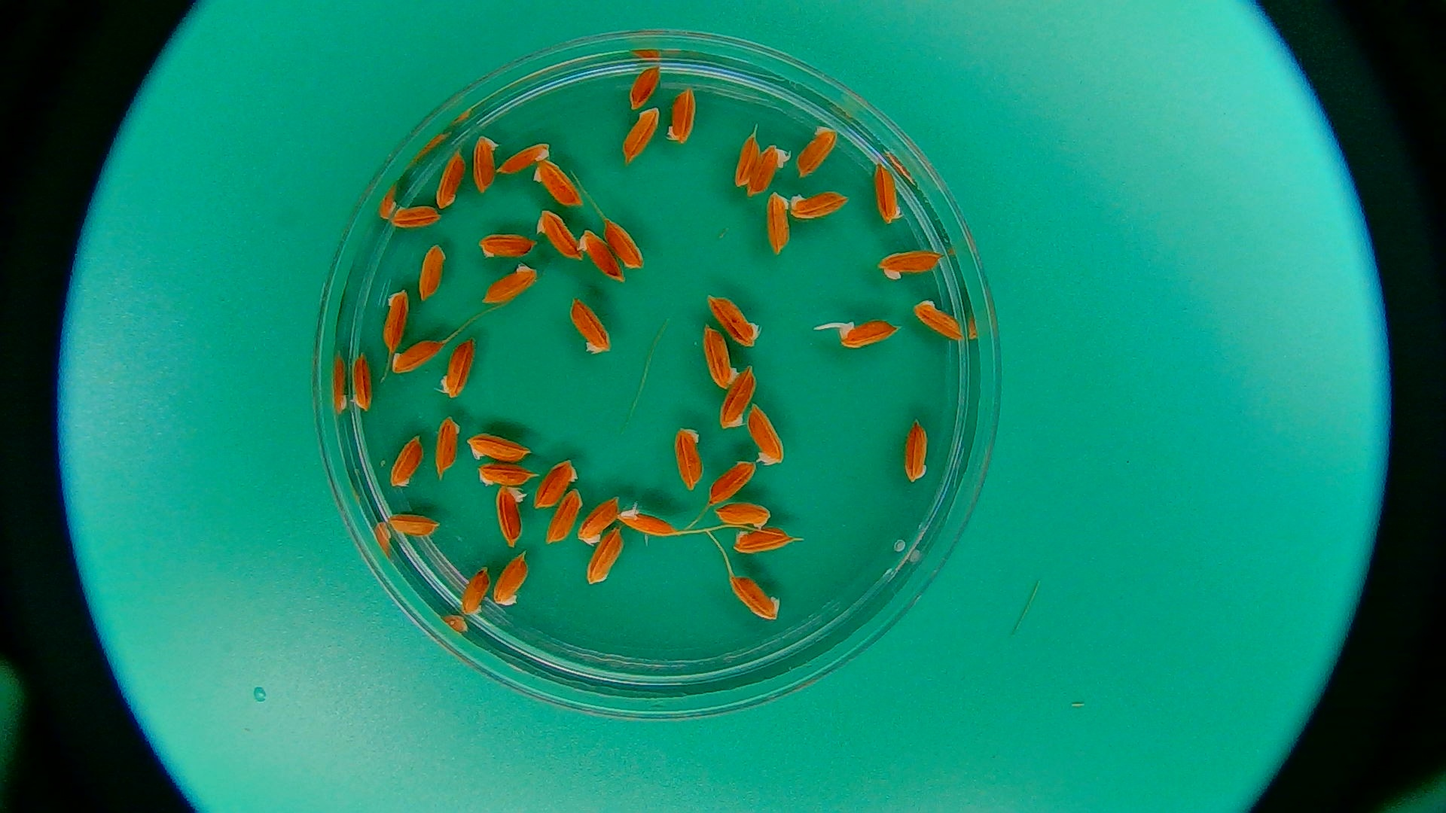no: (567, 294, 615, 356), (575, 227, 626, 285), (711, 293, 761, 352), (529, 157, 585, 207), (745, 400, 786, 468), (533, 206, 583, 261), (481, 261, 541, 306), (874, 244, 944, 282), (703, 321, 741, 391), (718, 361, 756, 431), (602, 214, 647, 272), (728, 575, 782, 622), (438, 338, 477, 402), (706, 459, 758, 507), (585, 526, 625, 588), (795, 123, 838, 180), (913, 296, 966, 341), (545, 486, 584, 547), (532, 458, 578, 509), (620, 105, 660, 163), (577, 497, 620, 550), (467, 431, 534, 465), (872, 161, 906, 227), (675, 421, 706, 493), (661, 86, 697, 147), (389, 432, 426, 490), (709, 499, 773, 531), (433, 147, 466, 209), (730, 525, 792, 558), (898, 416, 928, 484), (432, 413, 462, 480), (493, 551, 529, 606), (383, 508, 442, 541), (380, 289, 410, 353), (763, 190, 792, 255), (788, 191, 850, 221), (493, 141, 551, 173), (389, 340, 443, 374), (459, 567, 492, 620), (475, 233, 537, 261), (418, 242, 446, 303), (626, 62, 661, 110), (349, 351, 376, 413), (471, 134, 499, 193), (477, 461, 536, 489), (733, 129, 760, 187), (389, 203, 443, 229)
yes: (494, 483, 531, 548), (834, 316, 901, 351), (617, 501, 677, 539), (746, 148, 789, 197)
